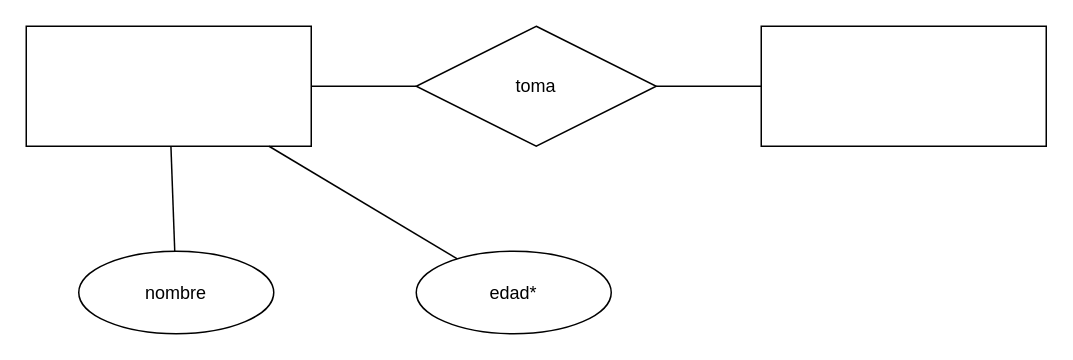
The diagram is 1073 pixels wide and 360 high, and some of its shapes have lost their labels. The shapes that lost their labels are listed below. From the top down, each one's centre as x and y in pixels, then its label:
At point 168,85: "ESTUDIANTE carnet PK".
At point 903,85: "MATERIA codigo PK".
